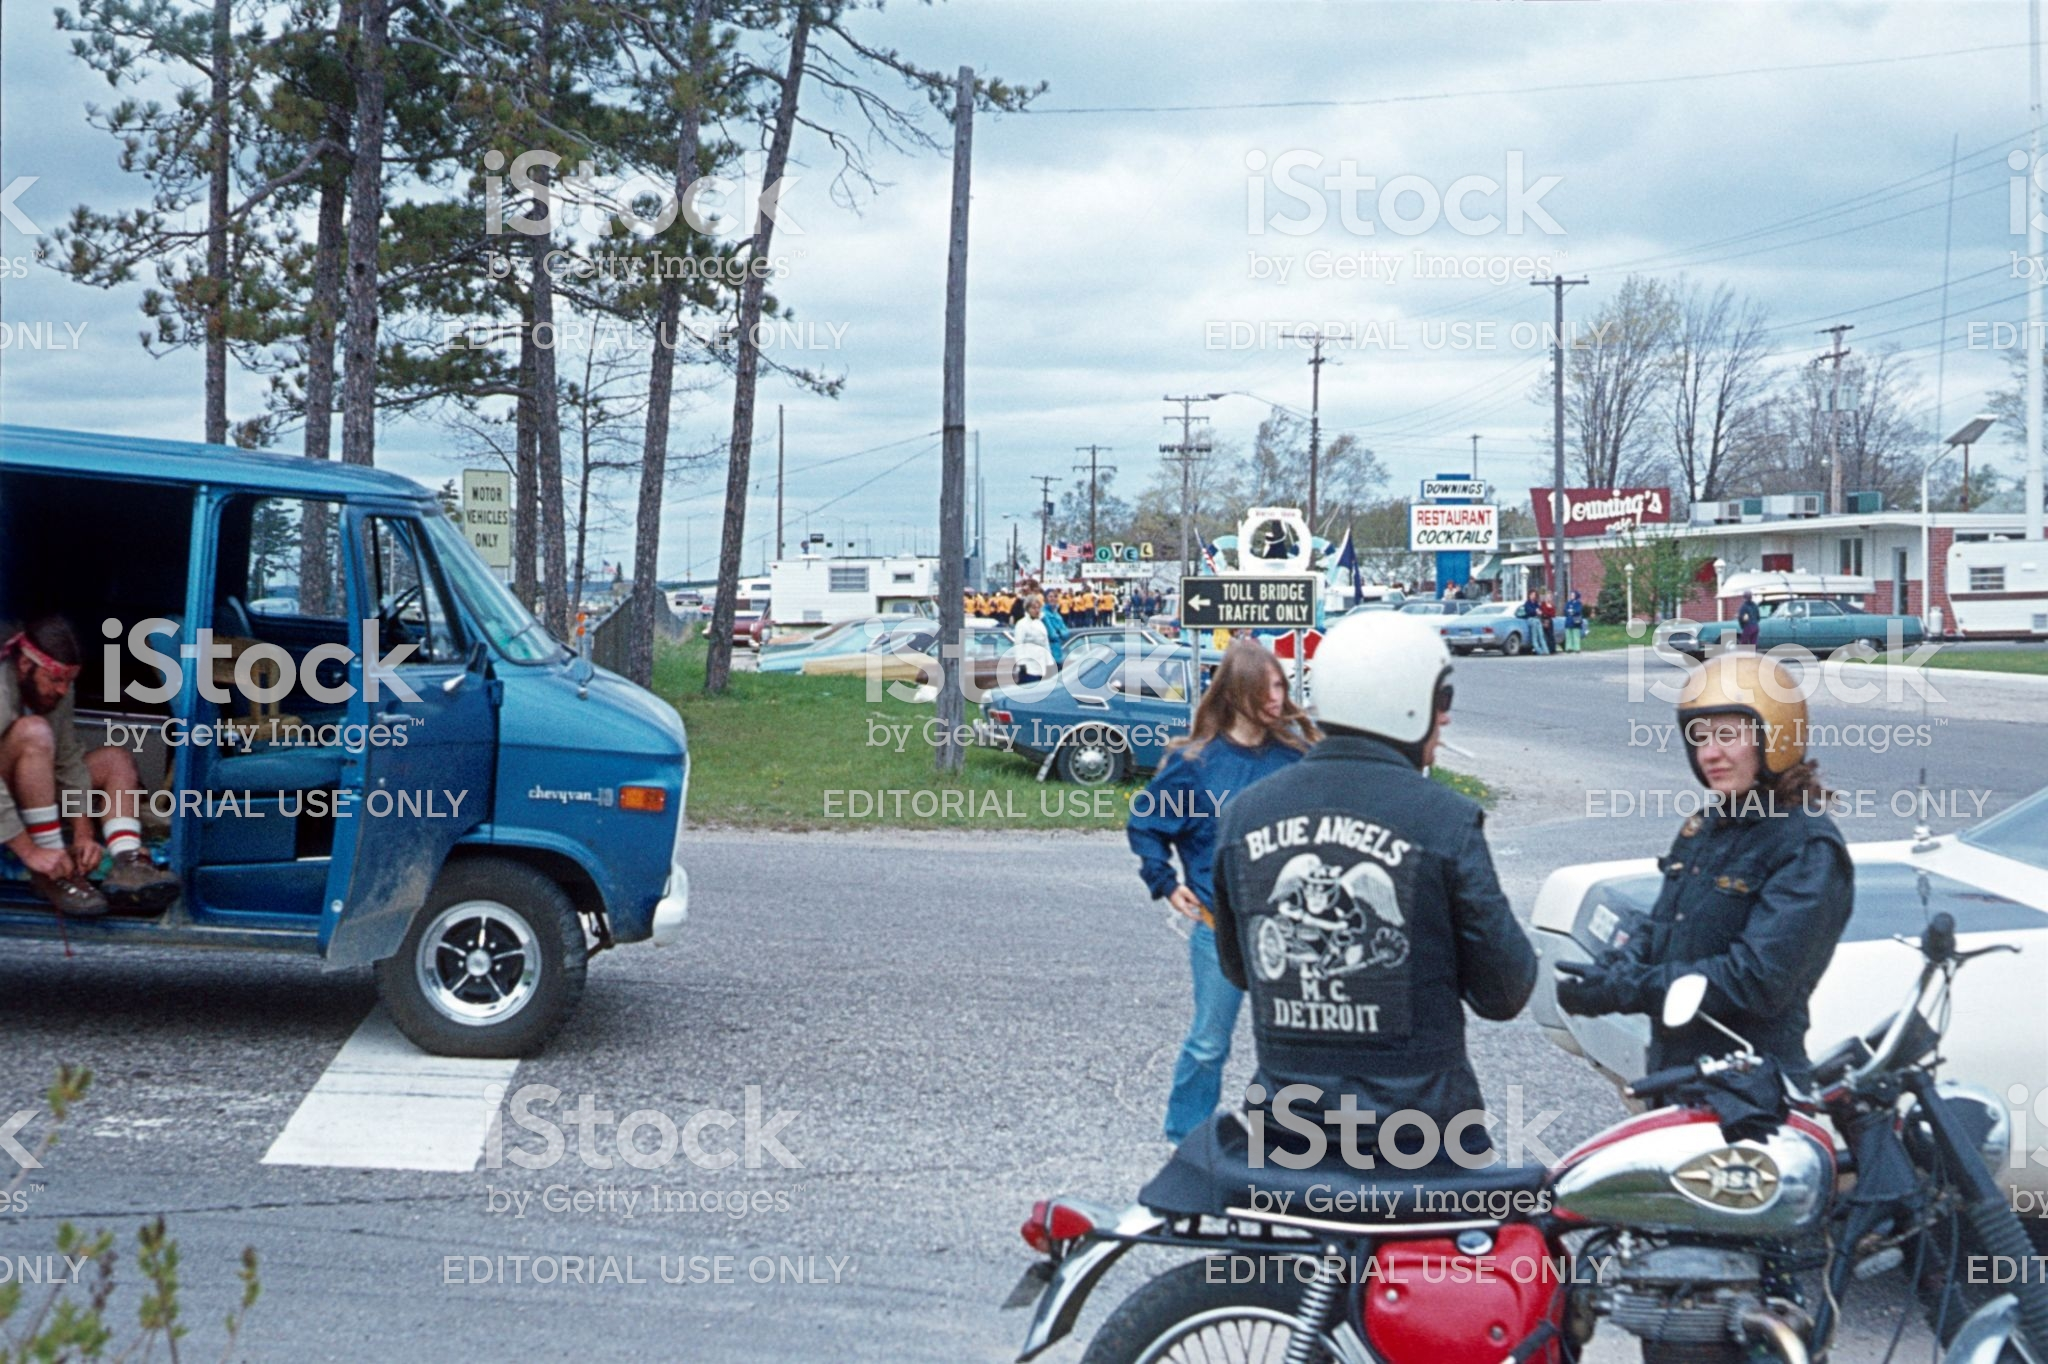helmet: (1292, 603, 1459, 741), (1687, 664, 1817, 776)
